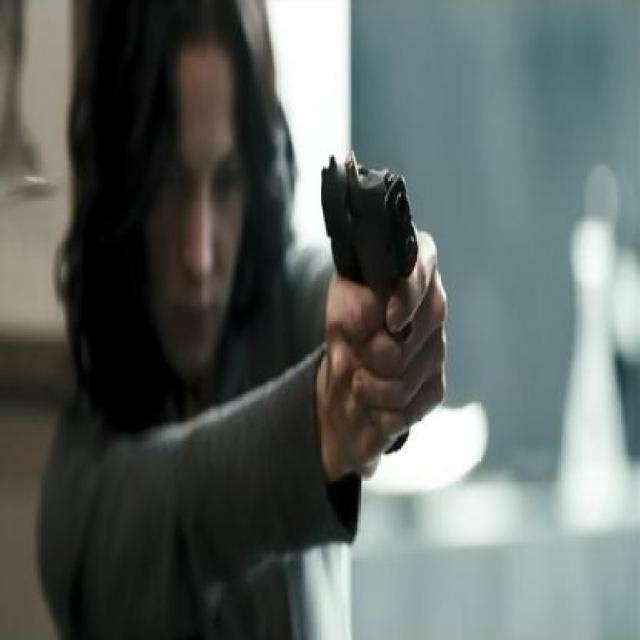gun: (310, 100, 430, 272)
